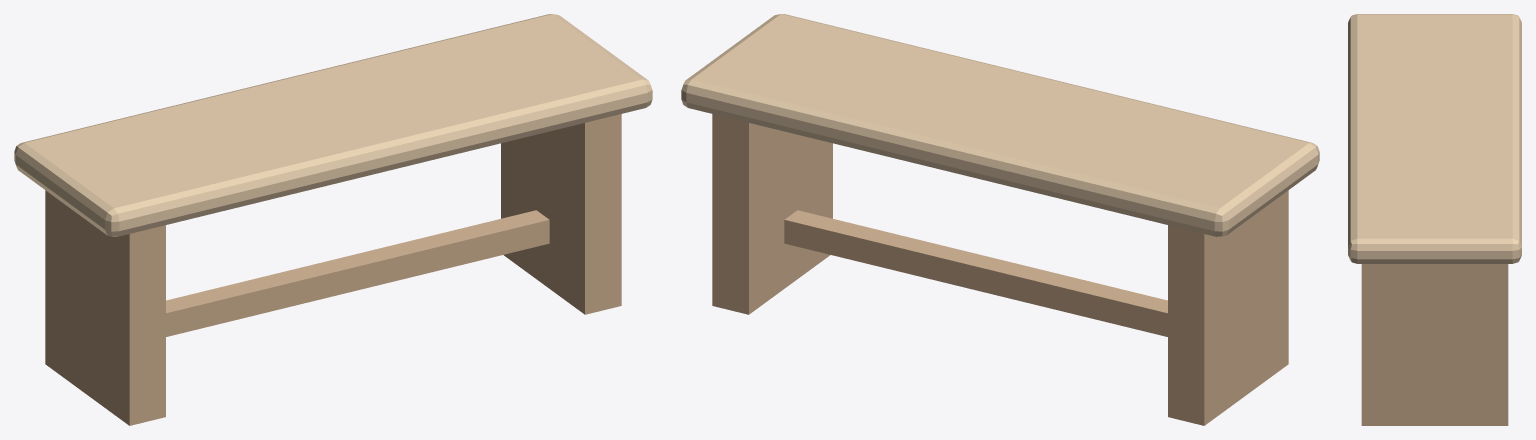
File: banco.glb
The picture shows the model from 3 angles, left to right: view 1: azimuth 30°, elevation 25°; view 2: azimuth 150°, elevation 25°; view 3: azimuth 270°, elevation 25°; orthographic projection. The views are drawn at different scales.
Visible parts, largest first — view 1: banco; view 2: banco; view 3: banco.
Boxes of the visible parts, <box> form: banco: <box>14,14,652,425</box>; banco: <box>681,14,1319,425</box>; banco: <box>1348,14,1521,425</box>.
Size of the model in its own units: 1.2 by 0.47 by 0.38.
